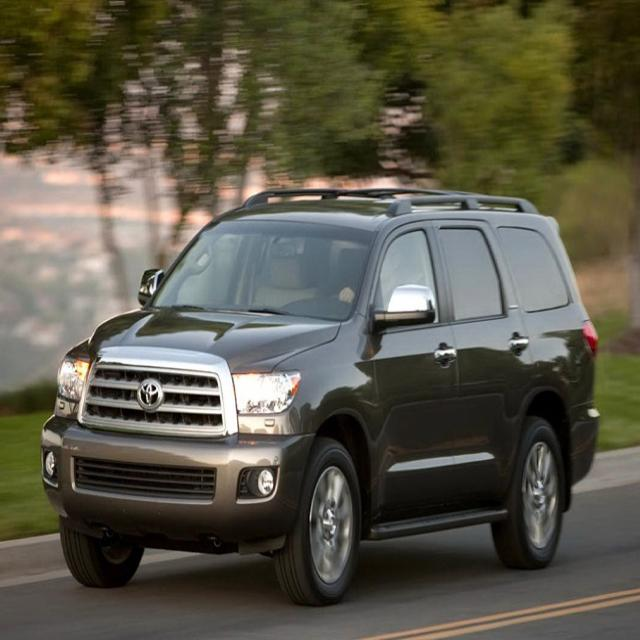back_left_side_light: (582, 314, 603, 355)
door: (437, 224, 530, 508)
front_bumper: (42, 410, 313, 544)
front_glass: (161, 223, 376, 320)
front_left_side_door: (368, 214, 462, 534)
front_left_side_light: (232, 368, 303, 419)
front_left_side_mirror: (386, 281, 437, 330)
front_right_side_light: (57, 348, 94, 408)
front_right_side_mirror: (140, 265, 164, 307)
wheel: (293, 447, 360, 600), (498, 419, 565, 566), (67, 520, 143, 589)
